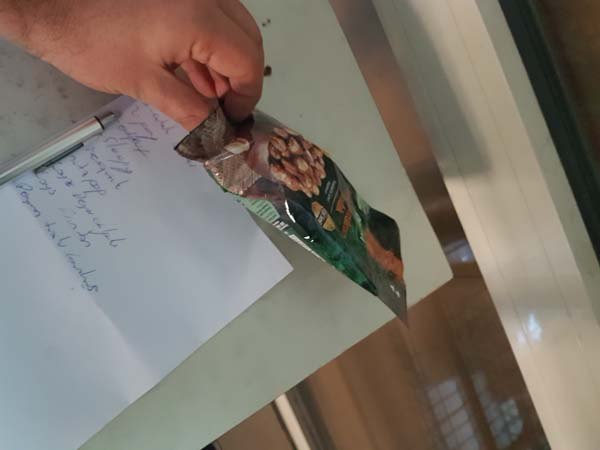peysankavrulmusfindik: (202, 100, 410, 336)
